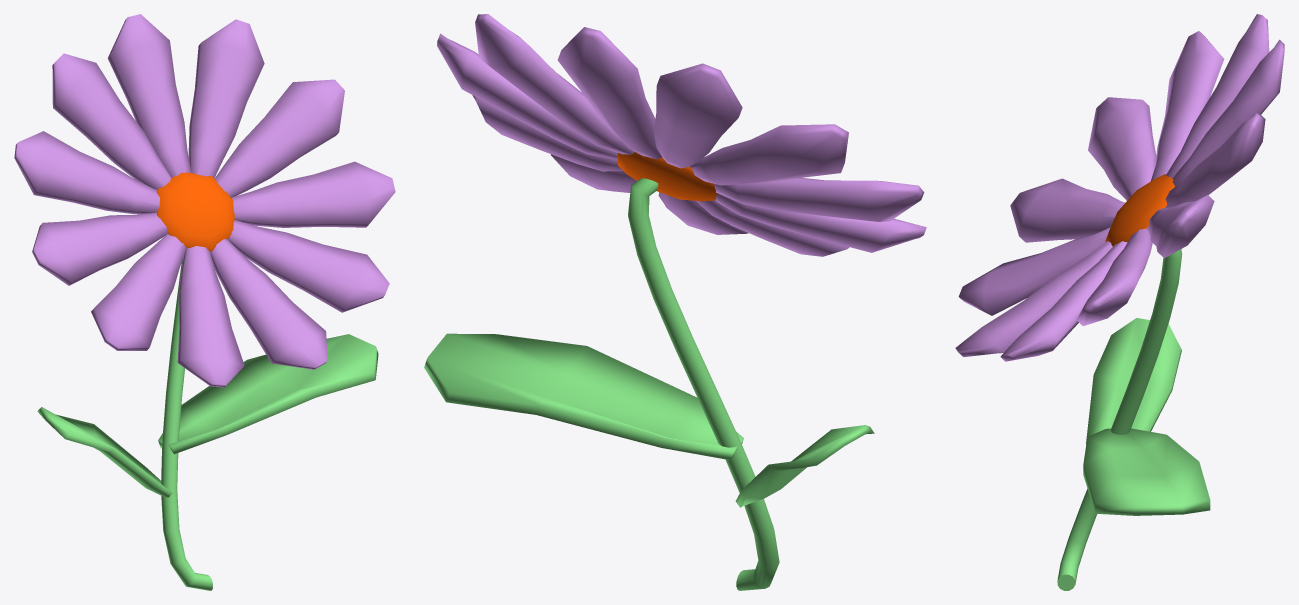
Rendered from Flower3AR.glb.
3 renders of one model, left to right at view 1: azimuth 30°, elevation 25°; view 2: azimuth 150°, elevation 25°; view 3: azimuth 270°, elevation 25°, orthographic. The views are drawn at different scales.
Parts seen in each view (by area): view 1: 平面.011, 平面.001, 平面.003, 平面.002, 平面.004, 平面, 平面.010, 平面.005, 平面.009, 平面.006, 平面.008, 平面.007 (+3 smaller); view 2: 平面.011, 贝塞尔曲线, 平面.009, 平面, 平面.010, 平面.001, 平面.008, 平面.002, 平面.007, 平面.012, 球体, 平面.003 (+3 smaller); view 3: 平面.011, 平面.012, 贝塞尔曲线, 平面.007, 平面.008, 平面.009, 平面.006, 平面.005, 平面, 平面.004, 平面.010, 平面.001 (+3 smaller).
Part boxes in pixels (x1=…): 平面.011: x1=158, y1=334, x2=378, y2=454; 平面.001: x1=188, y1=19, x2=264, y2=178; 平面.003: x1=231, y1=161, x2=395, y2=227; 平面.002: x1=214, y1=79, x2=344, y2=197; 平面.004: x1=227, y1=220, x2=389, y2=312; 平面: x1=107, y1=14, x2=191, y2=177; 平面.010: x1=52, y1=53, x2=171, y2=189; 平面.005: x1=210, y1=239, x2=327, y2=369; 平面.009: x1=14, y1=131, x2=159, y2=214; 平面.006: x1=177, y1=246, x2=244, y2=387; 平面.008: x1=32, y1=212, x2=167, y2=285; 平面.007: x1=91, y1=233, x2=186, y2=350; 平面.011: x1=424, y1=333, x2=743, y2=460; 贝塞尔曲线: x1=628, y1=178, x2=779, y2=590; 平面.009: x1=690, y1=124, x2=848, y2=185; 平面: x1=557, y1=27, x2=662, y2=159; 平面.010: x1=653, y1=63, x2=742, y2=168; 平面.001: x1=475, y1=14, x2=634, y2=154; 平面.008: x1=714, y1=177, x2=924, y2=221; 平面.002: x1=437, y1=33, x2=617, y2=160; 平面.007: x1=715, y1=193, x2=926, y2=252; 平面.012: x1=735, y1=425, x2=874, y2=507; 球体: x1=617, y1=152, x2=718, y2=201; 平面.003: x1=472, y1=95, x2=623, y2=171; 平面.011: x1=1083, y1=428, x2=1210, y2=515; 平面.012: x1=1086, y1=318, x2=1181, y2=444; 贝塞尔曲线: x1=1057, y1=249, x2=1182, y2=590; 平面.007: x1=1010, y1=178, x2=1125, y2=242; 平面.008: x1=1088, y1=97, x2=1156, y2=200; 平面.009: x1=1151, y1=31, x2=1224, y2=180; 平面.006: x1=958, y1=227, x2=1110, y2=315; 平面.005: x1=955, y1=241, x2=1112, y2=356; 平面: x1=1172, y1=39, x2=1284, y2=186; 平面.004: x1=1000, y1=241, x2=1127, y2=361; 平面.010: x1=1166, y1=14, x2=1269, y2=177; 平面.001: x1=1165, y1=113, x2=1265, y2=207.
Size of the model in its own units: 3.97 by 5.33 by 2.85.
